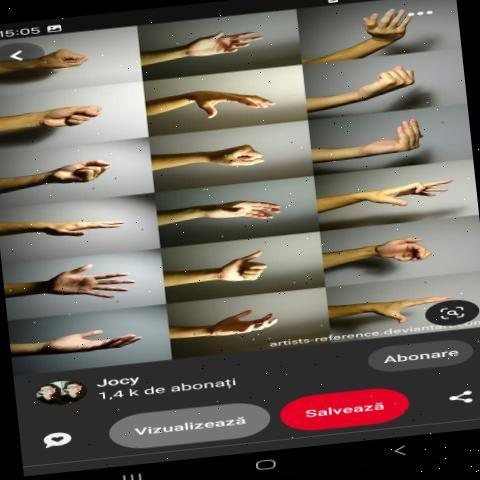Hands: (16, 261, 159, 312), (161, 79, 288, 131), (23, 320, 156, 365), (177, 304, 318, 346), (323, 115, 450, 159), (317, 173, 468, 209), (7, 211, 149, 247), (165, 190, 289, 231), (146, 33, 276, 68), (332, 294, 449, 330)
